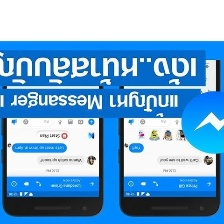phone: (118, 39, 224, 219), (0, 42, 104, 218)
